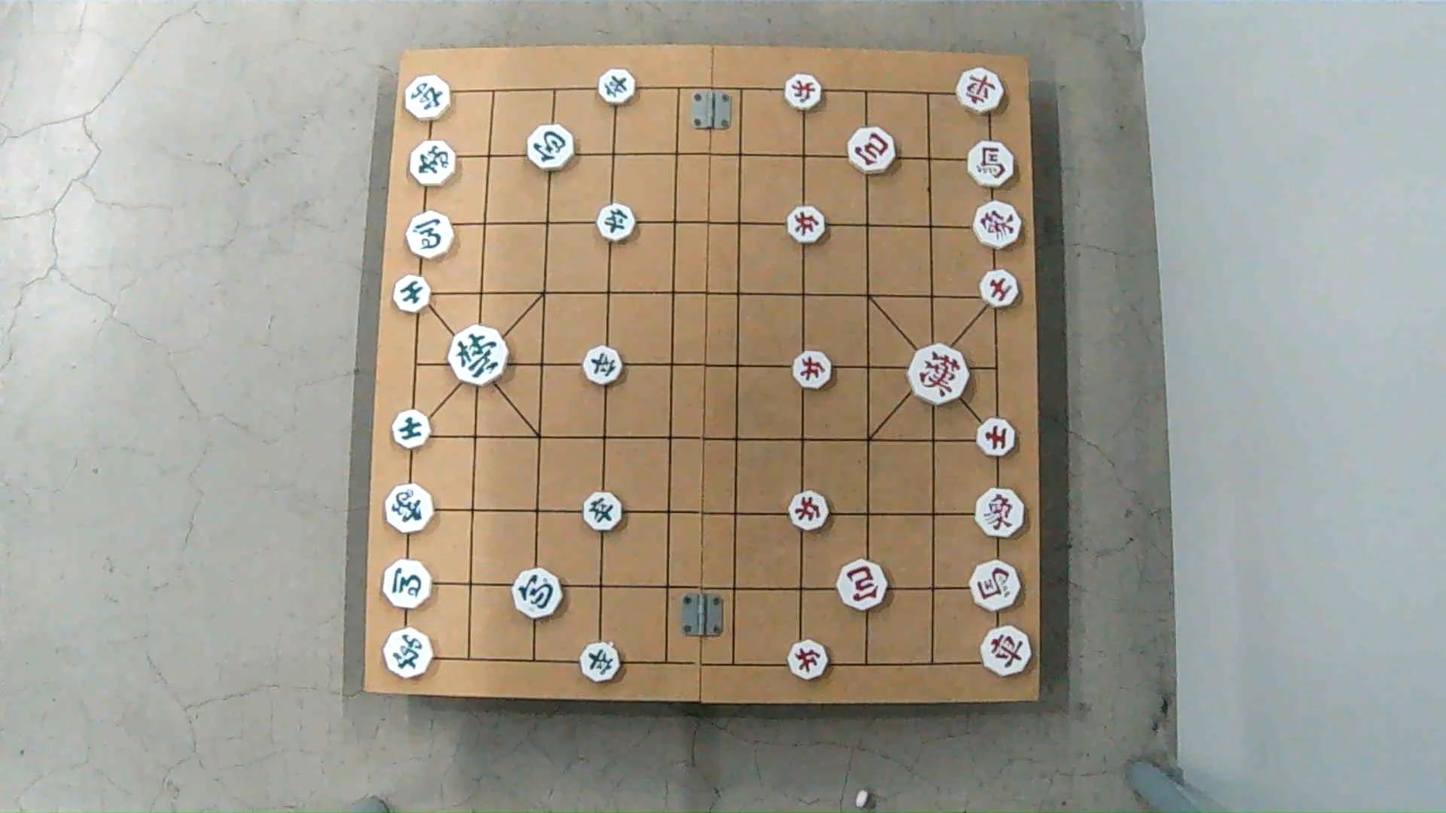cha_green: (380, 632, 434, 679), (402, 78, 451, 120)
cha_red: (979, 626, 1036, 674), (956, 70, 1008, 113)
jol_green: (578, 644, 622, 680), (580, 494, 624, 529), (596, 204, 639, 239), (582, 349, 625, 384), (597, 73, 638, 105)
jol_red: (787, 644, 831, 680), (789, 496, 832, 532), (786, 209, 829, 244), (792, 353, 834, 388), (782, 76, 825, 109)
ma_green: (382, 562, 433, 607), (405, 215, 456, 257)
ma_red: (969, 558, 1021, 611), (966, 141, 1017, 184)
po_green: (514, 571, 566, 617), (527, 127, 578, 169)
po_red: (844, 126, 896, 169), (837, 565, 889, 607)
sa_green: (389, 411, 430, 446), (392, 276, 432, 310)
sa_red: (974, 421, 1018, 457), (977, 271, 1021, 306)
sang_green: (384, 484, 435, 530), (409, 141, 459, 184)
sang_red: (973, 490, 1027, 535), (972, 204, 1023, 248)
wang_green: (449, 331, 509, 384)
wang_red: (909, 349, 972, 403)
